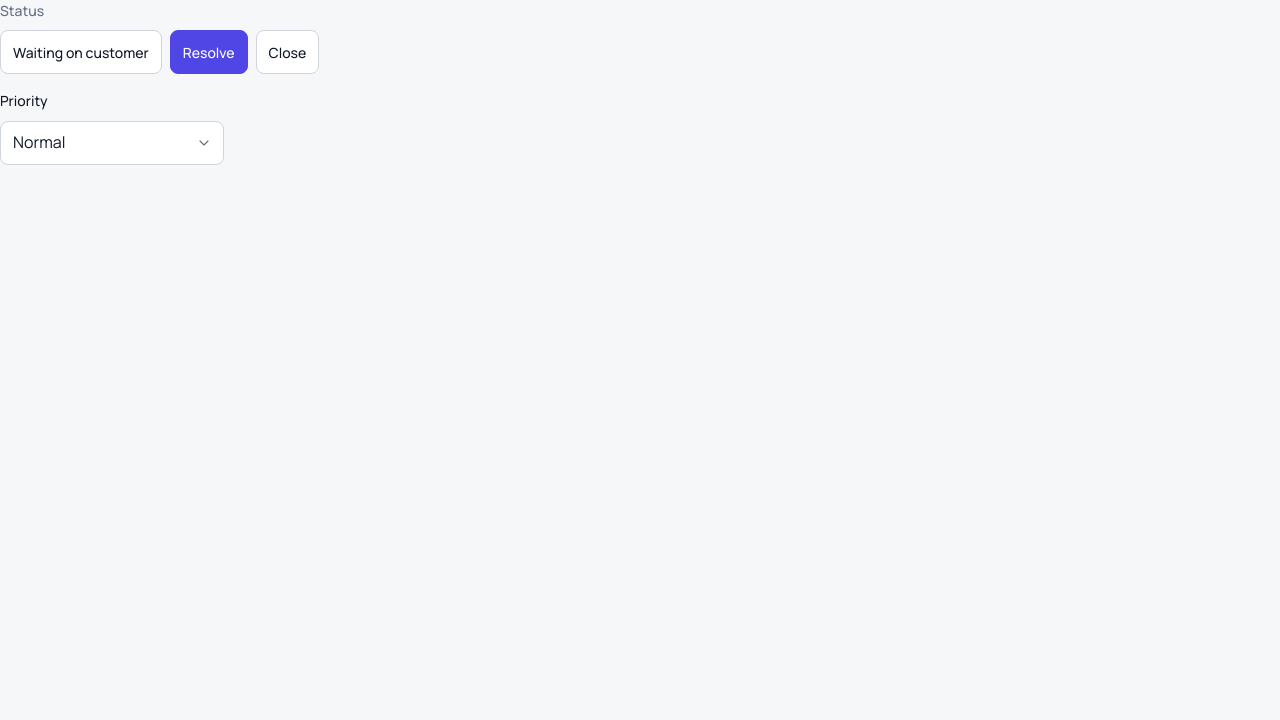
Scenario: one-way moves are confirmed › cancels without writing anything
Click the button "Close": coordinates (287, 52) [256,30,319,74]
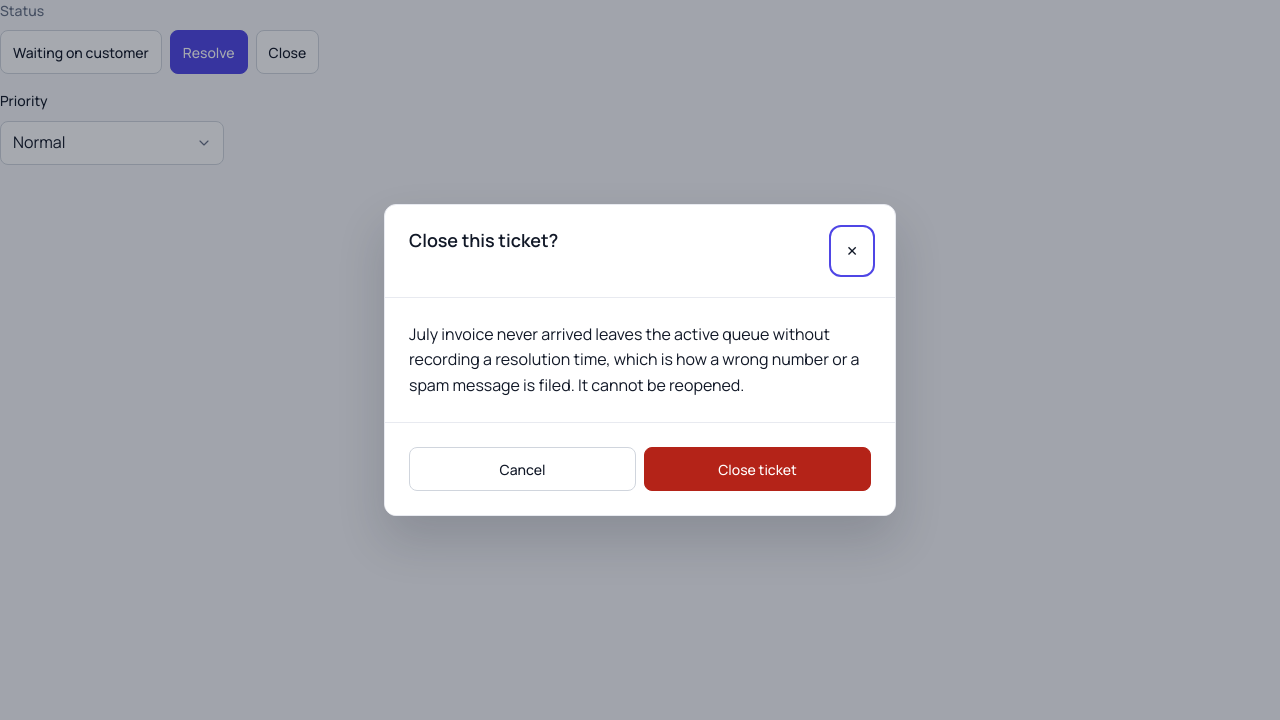
Check: the dialog is shown, box [384,204,896,516]
Click the button "Cancel": coordinates (522, 469) [409,447,636,491]
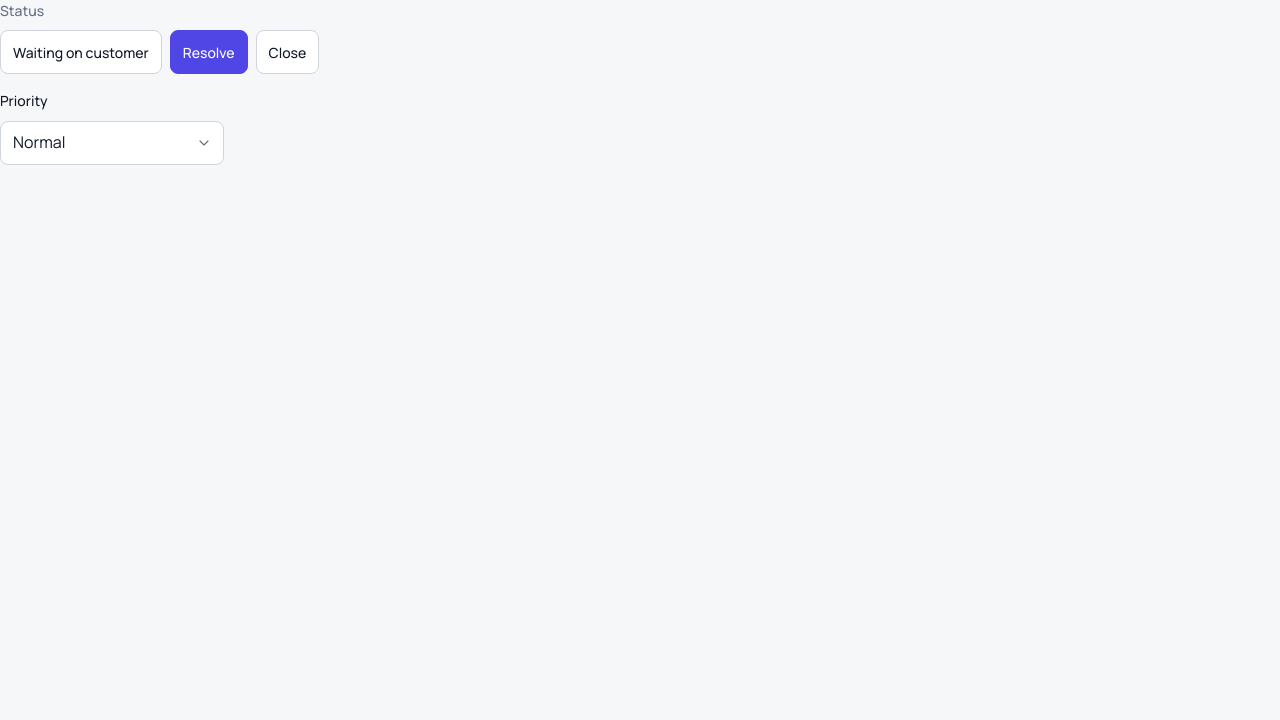
Check: the dialog is gone
